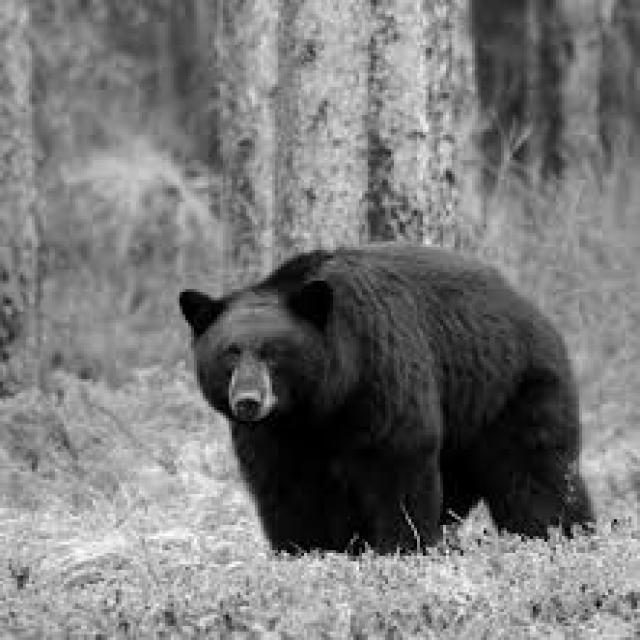Bear: (176, 257, 604, 570)
